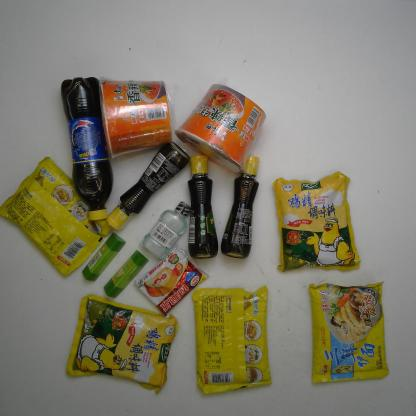Dessert: (130, 243, 210, 320)
Drink: (58, 75, 115, 222)
Instant Noodles: (2, 155, 113, 279), (189, 284, 274, 395), (306, 279, 393, 385), (173, 81, 268, 176), (96, 74, 175, 160)
Personal Hygiene: (139, 200, 192, 262)
Seasoner: (63, 293, 180, 397), (272, 169, 365, 274), (104, 139, 191, 233), (220, 154, 262, 260), (186, 152, 220, 260)
Stationery: (103, 249, 150, 300), (81, 231, 126, 283)
